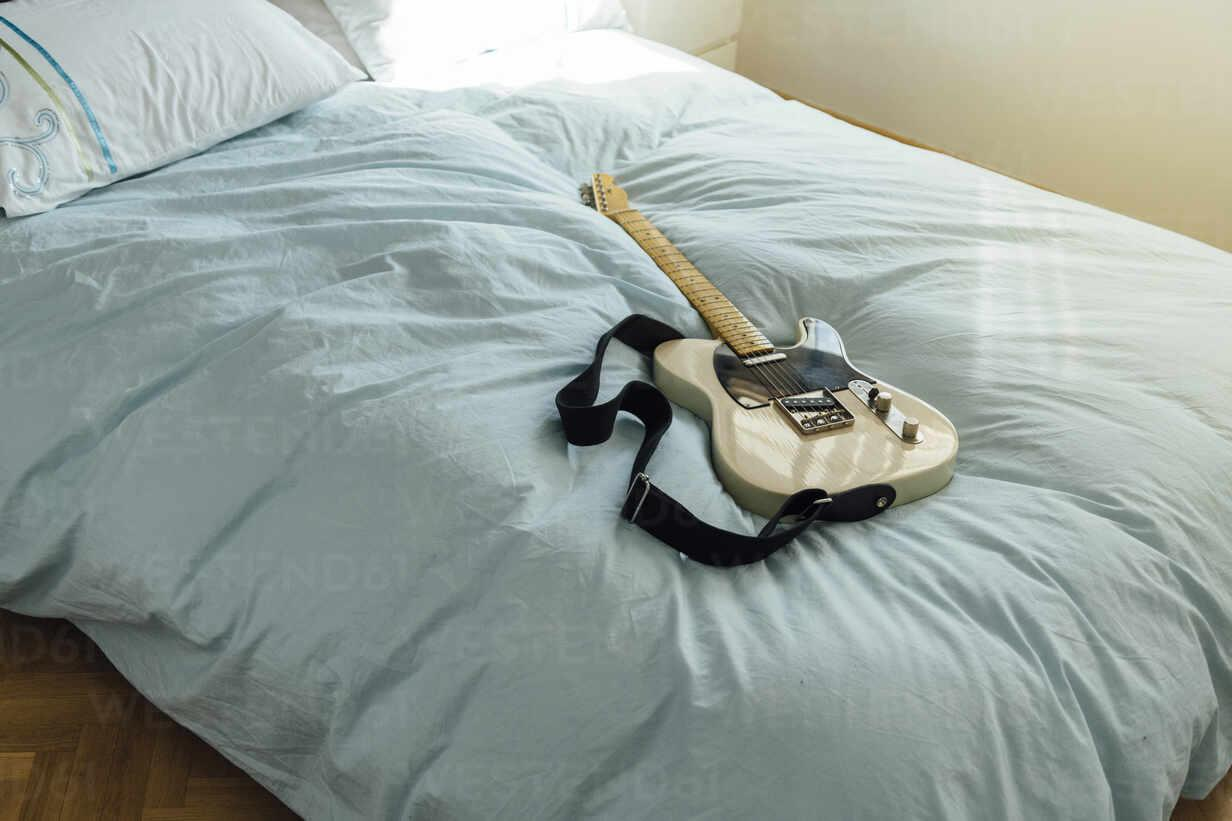acousticguitar: (586, 175, 961, 523)
